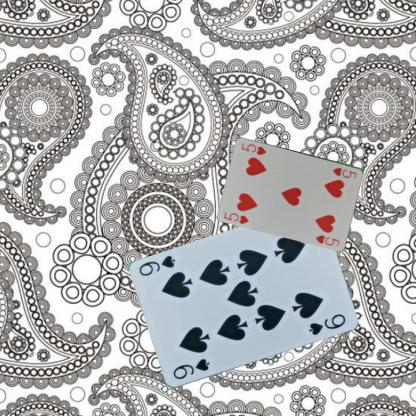5h: (221, 209, 250, 225), (331, 164, 358, 180)
9s: (170, 356, 211, 381)
